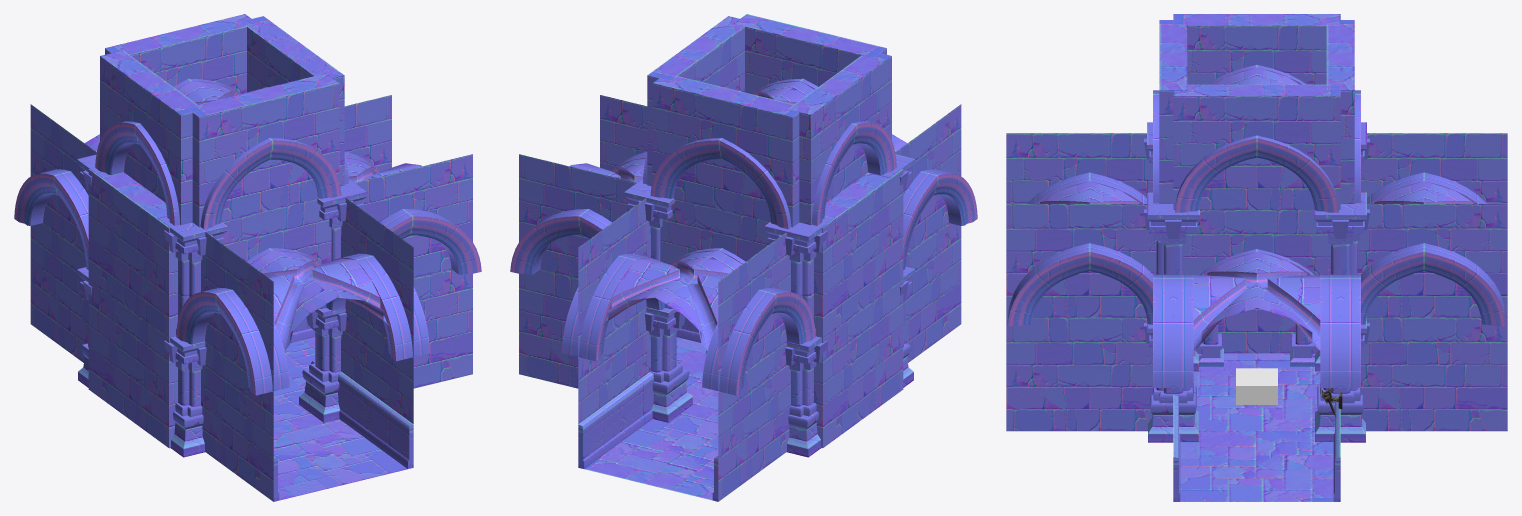
The model's file is FP_Room_02.fbx.
The picture shows the model from 3 angles, left to right: view 1: azimuth 30°, elevation 25°; view 2: azimuth 150°, elevation 25°; view 3: azimuth 270°, elevation 25°; orthographic projection. The views are drawn at different scales.
Parts seen in each view (by area): view 1: Wall_Niche_01__2_, Arch_05__2_, FP_Wall_03__4_, FP_Wall_03__9_, FP_Wall_03__6_, Arch_04__8_, FP_Wall_03__5_, Floor_01__5_, Arch_05__3_, Ceiling_04__3_, Arch_03__9_, Arch_03__6_ (+16 smaller); view 2: Wall_Niche_01__2_, Arch_05__3_, FP_Wall_03__5_, FP_Wall_03__8_, FP_Wall_03__7_, Arch_04__8_, FP_Wall_03__4_, Floor_01__4_, Arch_05__2_, Ceiling_04__4_, Arch_03__11_, Arch_03__7_ (+16 smaller); view 3: FP_Wall_03__6_, FP_Wall_03__7_, Arch_05__4_, Arch_04__11_, Floor_01__6_, Arch_04__8_, Ceiling_04__6_, FP_Wall_03__4_, FP_Wall_03__5_, Floor_01__3_, Arch_03__10_, Arch_03__12_ (+19 smaller).
Boxes of the visible parts, box(x1,y1,x2,y2) form: Wall_Niche_01__2_: box(88, 169, 177, 448); Arch_05__2_: box(186, 73, 339, 308); FP_Wall_03__4_: box(201, 232, 279, 501); FP_Wall_03__9_: box(355, 154, 472, 388); FP_Wall_03__6_: box(338, 198, 413, 468); Arch_04__8_: box(95, 50, 203, 225); FP_Wall_03__5_: box(30, 104, 96, 362); Floor_01__5_: box(273, 413, 407, 500); Arch_05__3_: box(105, 14, 255, 94); Ceiling_04__3_: box(250, 250, 389, 350); Arch_03__9_: box(176, 287, 289, 395); Arch_03__6_: box(200, 138, 341, 229); Wall_Niche_01__2_: box(814, 169, 903, 448); Arch_05__3_: box(652, 73, 803, 308); FP_Wall_03__5_: box(712, 232, 790, 501); FP_Wall_03__8_: box(519, 154, 636, 388); FP_Wall_03__7_: box(578, 198, 653, 468); Arch_04__8_: box(788, 50, 896, 225); FP_Wall_03__4_: box(895, 104, 961, 362); Floor_01__4_: box(584, 413, 718, 500); Arch_05__2_: box(733, 14, 886, 94); Ceiling_04__4_: box(602, 250, 741, 350); Arch_03__11_: box(702, 287, 815, 395); Arch_03__7_: box(650, 138, 791, 229); FP_Wall_03__6_: box(1006, 204, 1156, 431); FP_Wall_03__7_: box(1357, 204, 1507, 431); Arch_05__4_: box(1173, 84, 1340, 275); Arch_04__11_: box(1173, 84, 1340, 212); Floor_01__6_: box(1180, 431, 1333, 501); Arch_04__8_: box(1173, 14, 1340, 84); Ceiling_04__6_: box(1187, 251, 1326, 350); FP_Wall_03__4_: box(1006, 133, 1152, 203); FP_Wall_03__5_: box(1361, 133, 1507, 203); Floor_01__3_: box(1193, 360, 1320, 431); Arch_03__10_: box(1007, 243, 1152, 326); Arch_03__12_: box(1361, 243, 1506, 326).
Size of what is drawn, in the model's own units: 870 by 950 by 1200.
